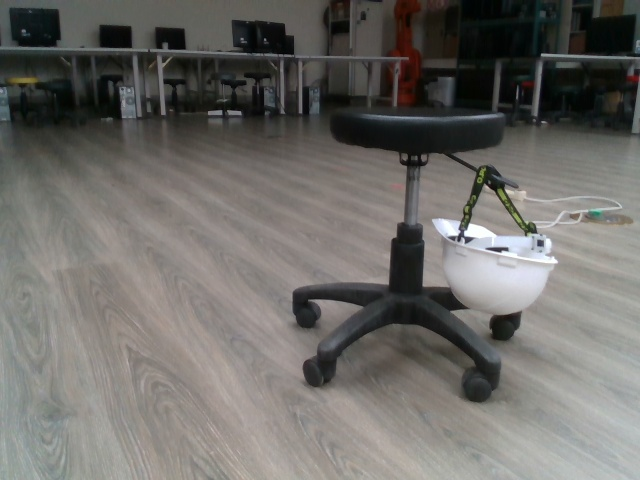helmet: (430, 213, 559, 319)
